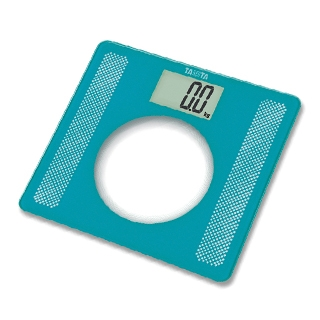LCD: (149, 69, 225, 120)
